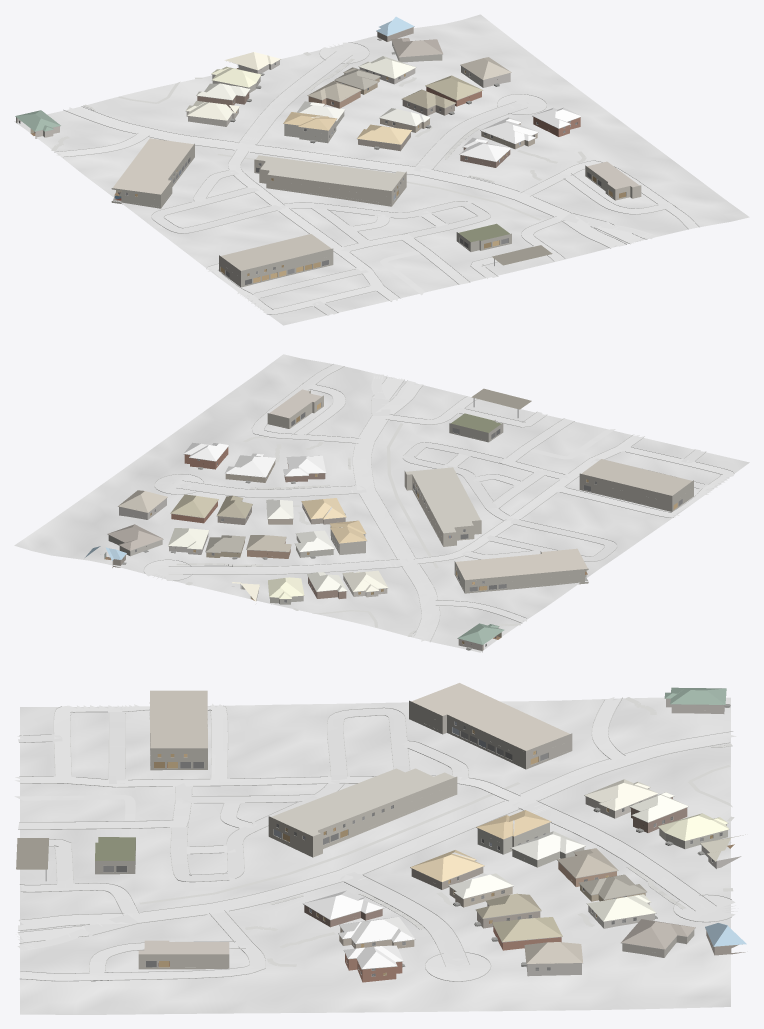
3 views of the same model, one above another, from view 1: azimuth 30°, elevation 25°; view 2: azimuth 150°, elevation 25°; view 3: azimuth 270°, elevation 25° (orthographic). The views are drawn at different scales.
Parts seen in each view (by area): view 1: ground, concrete, roof, roof_flat, wall_com, curb, wall, wall_stucco, detail, walk, wall_stone, glass_lit (+1 smaller); view 2: ground, concrete, roof, roof_flat, wall_com, curb, wall, wall_stucco, walk, detail, wall_stone, glass; view 3: ground, concrete, roof, roof_flat, wall_com, curb, wall, wall_stucco, walk, detail, wall_stone, glass (+1 smaller).
Part boxes in pixels (left/top/right/bottom): ground: left=14, top=14, right=749, bottom=325; concrete: left=55, top=42, right=698, bottom=315; roof: left=15, top=16, right=581, bottom=161; roof_flat: left=112, top=138, right=639, bottom=270; wall_com: left=111, top=143, right=641, bottom=287; curb: left=54, top=42, right=699, bottom=315; wall: left=197, top=27, right=580, bottom=167; wall_stucco: left=16, top=42, right=442, bottom=143; detail: left=17, top=26, right=623, bottom=285; walk: left=51, top=52, right=586, bottom=220; wall_stone: left=237, top=60, right=510, bottom=87; glass_lit: left=135, top=65, right=625, bottom=282; ground: left=14, top=354, right=749, bottom=652; concrete: left=144, top=364, right=734, bottom=641; roof: left=85, top=442, right=504, bottom=644; roof_flat: left=269, top=388, right=691, bottom=580; wall_com: left=267, top=390, right=693, bottom=593; curb: left=143, top=363, right=734, bottom=641; wall: left=112, top=447, right=346, bottom=599; wall_stucco: left=108, top=519, right=498, bottom=652; walk: left=176, top=423, right=520, bottom=636; detail: left=100, top=402, right=682, bottom=650; wall_stone: left=119, top=498, right=258, bottom=598; glass: left=135, top=412, right=682, bottom=646; ground: left=20, top=697, right=730, bottom=1014; concrete: left=14, top=697, right=738, bottom=980; roof: left=303, top=687, right=746, bottom=968; roof_flat: left=16, top=683, right=569, bottom=954; wall_com: left=45, top=700, right=572, bottom=969; curb: left=18, top=697, right=733, bottom=981; wall: left=304, top=797, right=745, bottom=982; wall_stucco: left=449, top=697, right=727, bottom=957; walk: left=139, top=697, right=734, bottom=966; detail: left=103, top=698, right=742, bottom=976; wall_stone: left=526, top=846, right=741, bottom=976; glass: left=103, top=726, right=722, bottom=976.
Size of the model in its own units: 253 by 13.65 by 259.
